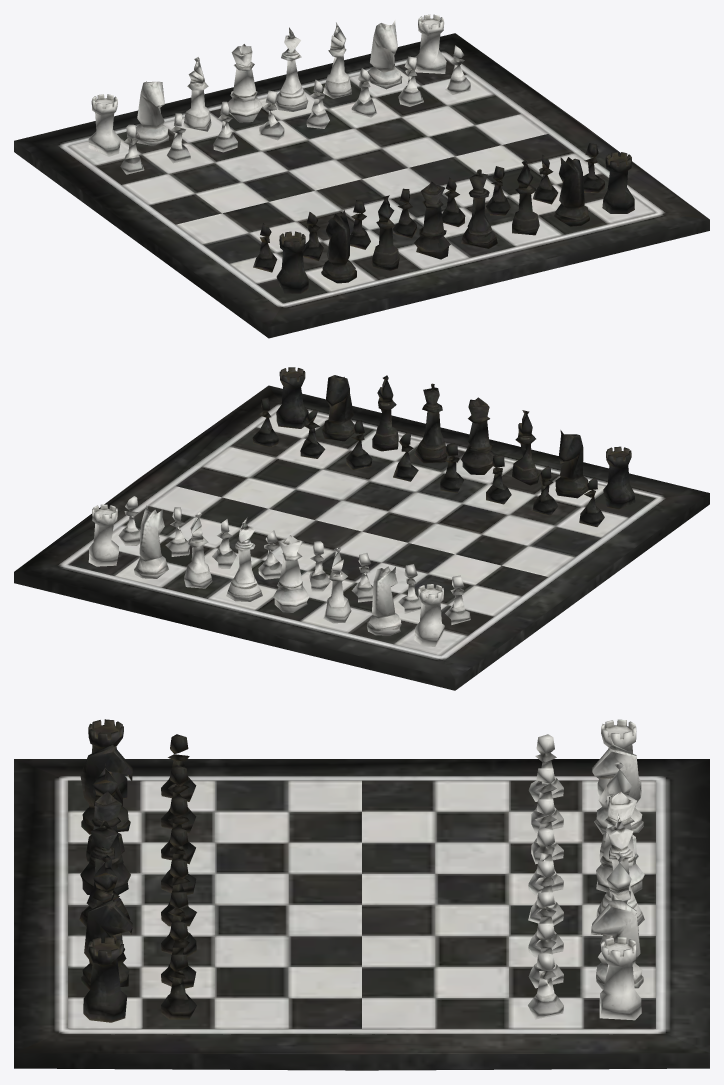
The model's file is chess.low.glb.
The picture shows the model from 3 angles, top to bottom: view 1: azimuth 30°, elevation 25°; view 2: azimuth 150°, elevation 25°; view 3: azimuth 270°, elevation 25°; orthographic projection. The views are drawn at different scales.
Parts seen in each view (by area): view 1: board, piece_rook_black_01, piece_rook_white_01; view 2: board, piece_rook_black_01, piece_rook_white_01; view 3: board, piece_rook_black_01, piece_rook_white_01.
Part boxes in pixels (bbox=[...]): board: bbox=[14, 33, 709, 338]; piece_rook_black_01: bbox=[253, 143, 634, 293]; piece_rook_white_01: bbox=[88, 14, 470, 174]; board: bbox=[14, 385, 709, 690]; piece_rook_black_01: bbox=[252, 367, 635, 526]; piece_rook_white_01: bbox=[88, 496, 470, 646]; board: bbox=[14, 759, 709, 1070]; piece_rook_black_01: bbox=[79, 719, 196, 1022]; piece_rook_white_01: bbox=[528, 719, 644, 1020].
Bounding box in the file's own units: 0.5507 × 0.1087 × 0.5482.
Materials: 3 (3 with a texture image).
